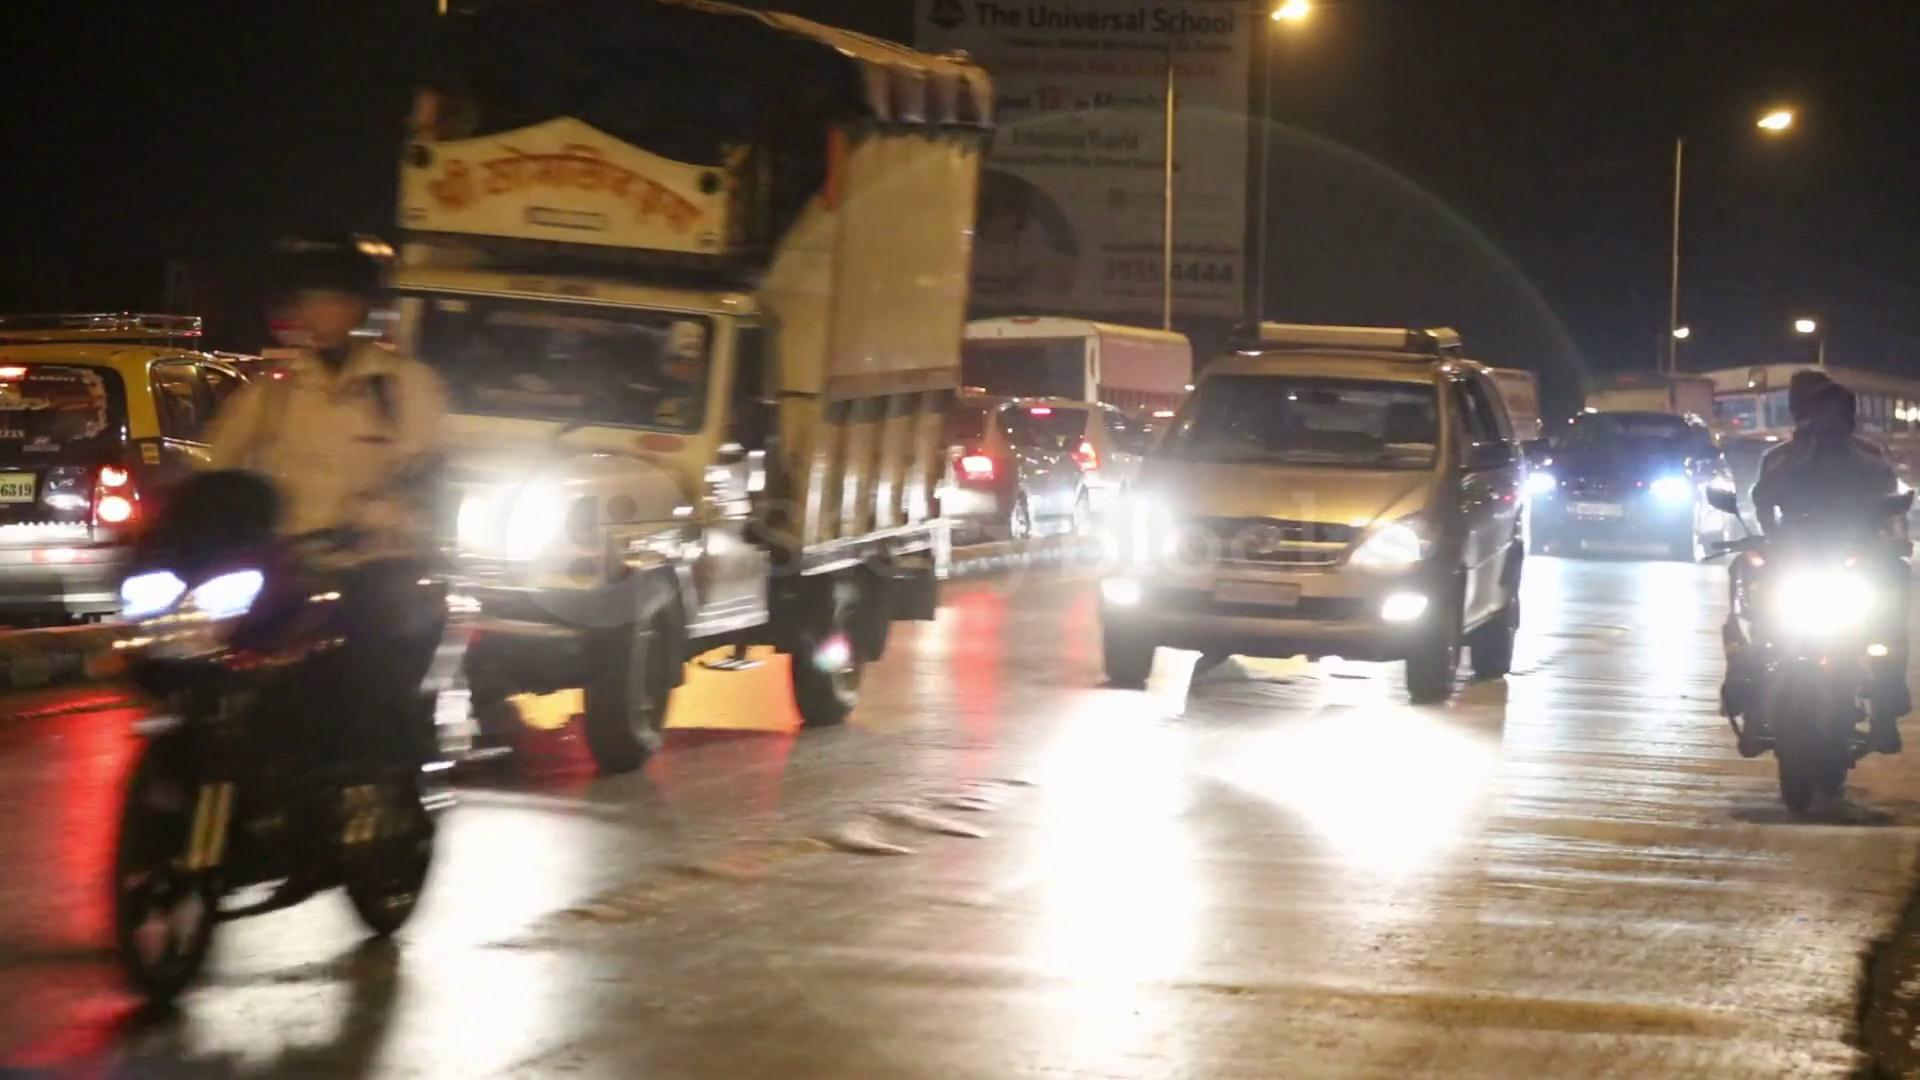rider: (188, 229, 454, 924), (1733, 370, 1913, 756)
with_helmate: (269, 244, 403, 373)
without_helmate: (1791, 387, 1861, 450)
